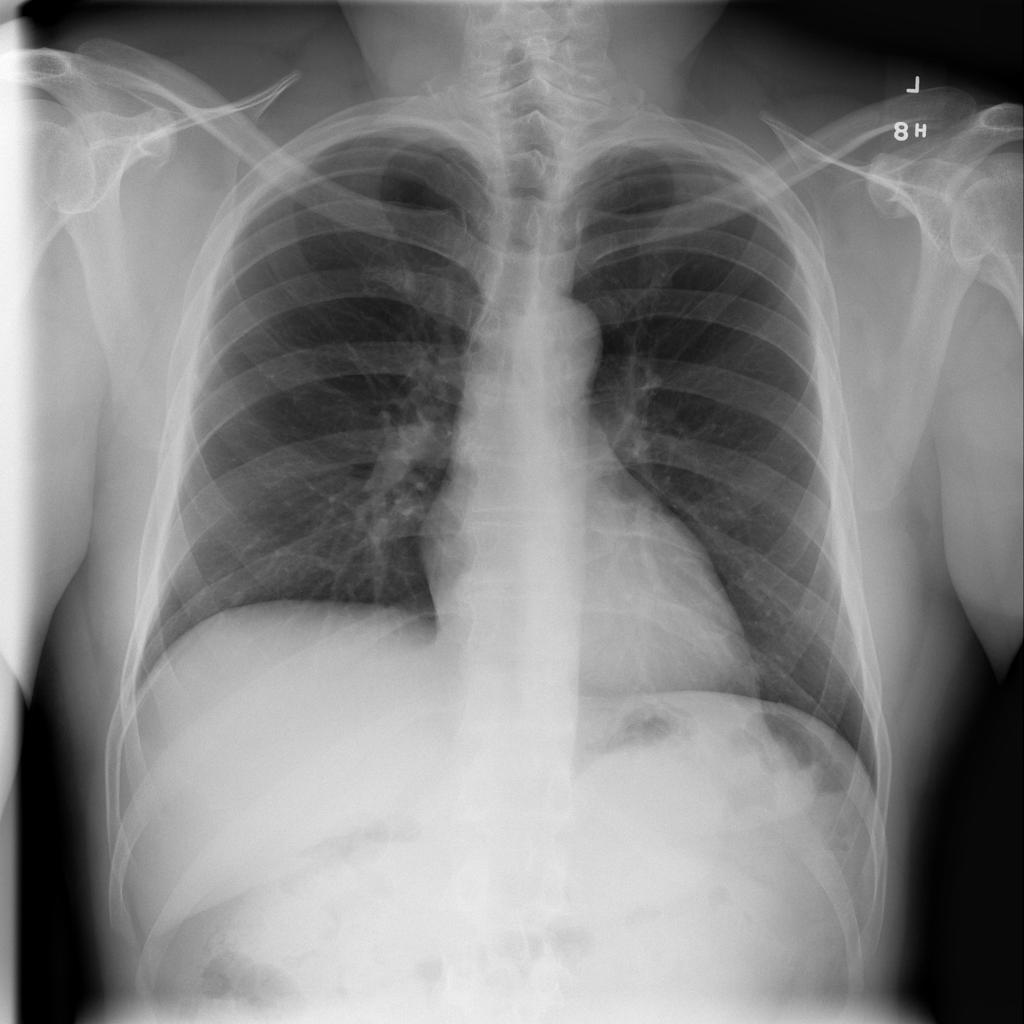nodule: (206, 572, 262, 617)
